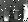person: (24, 5, 28, 22), (14, 8, 20, 19), (5, 9, 10, 21)
